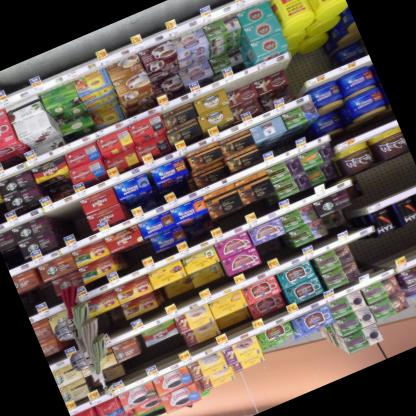empty_space: (50, 198, 87, 238)
